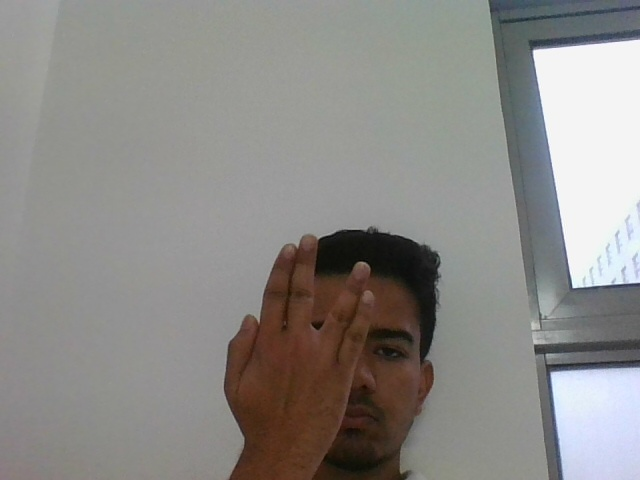livelong: (222, 230, 377, 448)
